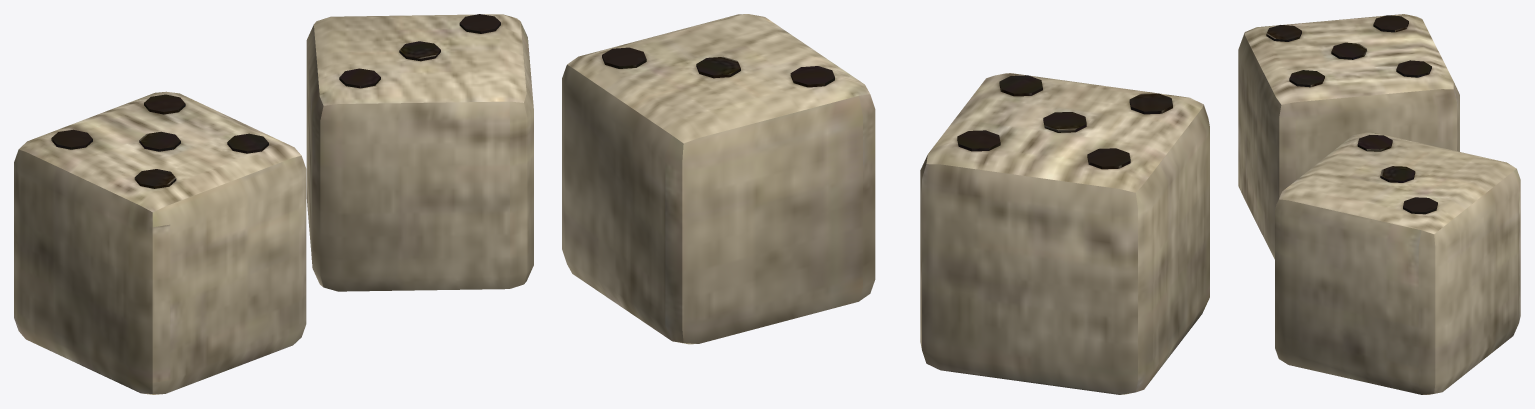
File: dice.glb
The picture shows the model from 3 angles, left to right: view 1: azimuth 30°, elevation 25°; view 2: azimuth 150°, elevation 25°; view 3: azimuth 270°, elevation 25°; orthographic projection. The views are drawn at different scales.
Parts seen in each view (by area): view 1: dice; view 2: dice; view 3: dice.
Part boxes in pixels (x1,y1,x2,y2): dice: (14, 14, 533, 394); dice: (562, 14, 1209, 394); dice: (1238, 14, 1520, 394).
Bounding box in the file's own units: 0.0432 × 0.0163 × 0.0232.
Materials: 1 (1 with a texture image).
